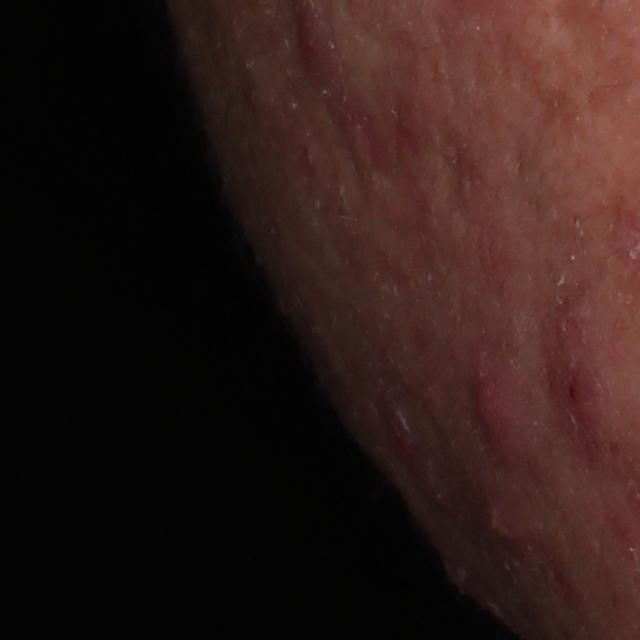papule: (548, 354, 611, 439), (469, 375, 517, 443), (294, 8, 335, 67)
pustule: (484, 499, 524, 547)
